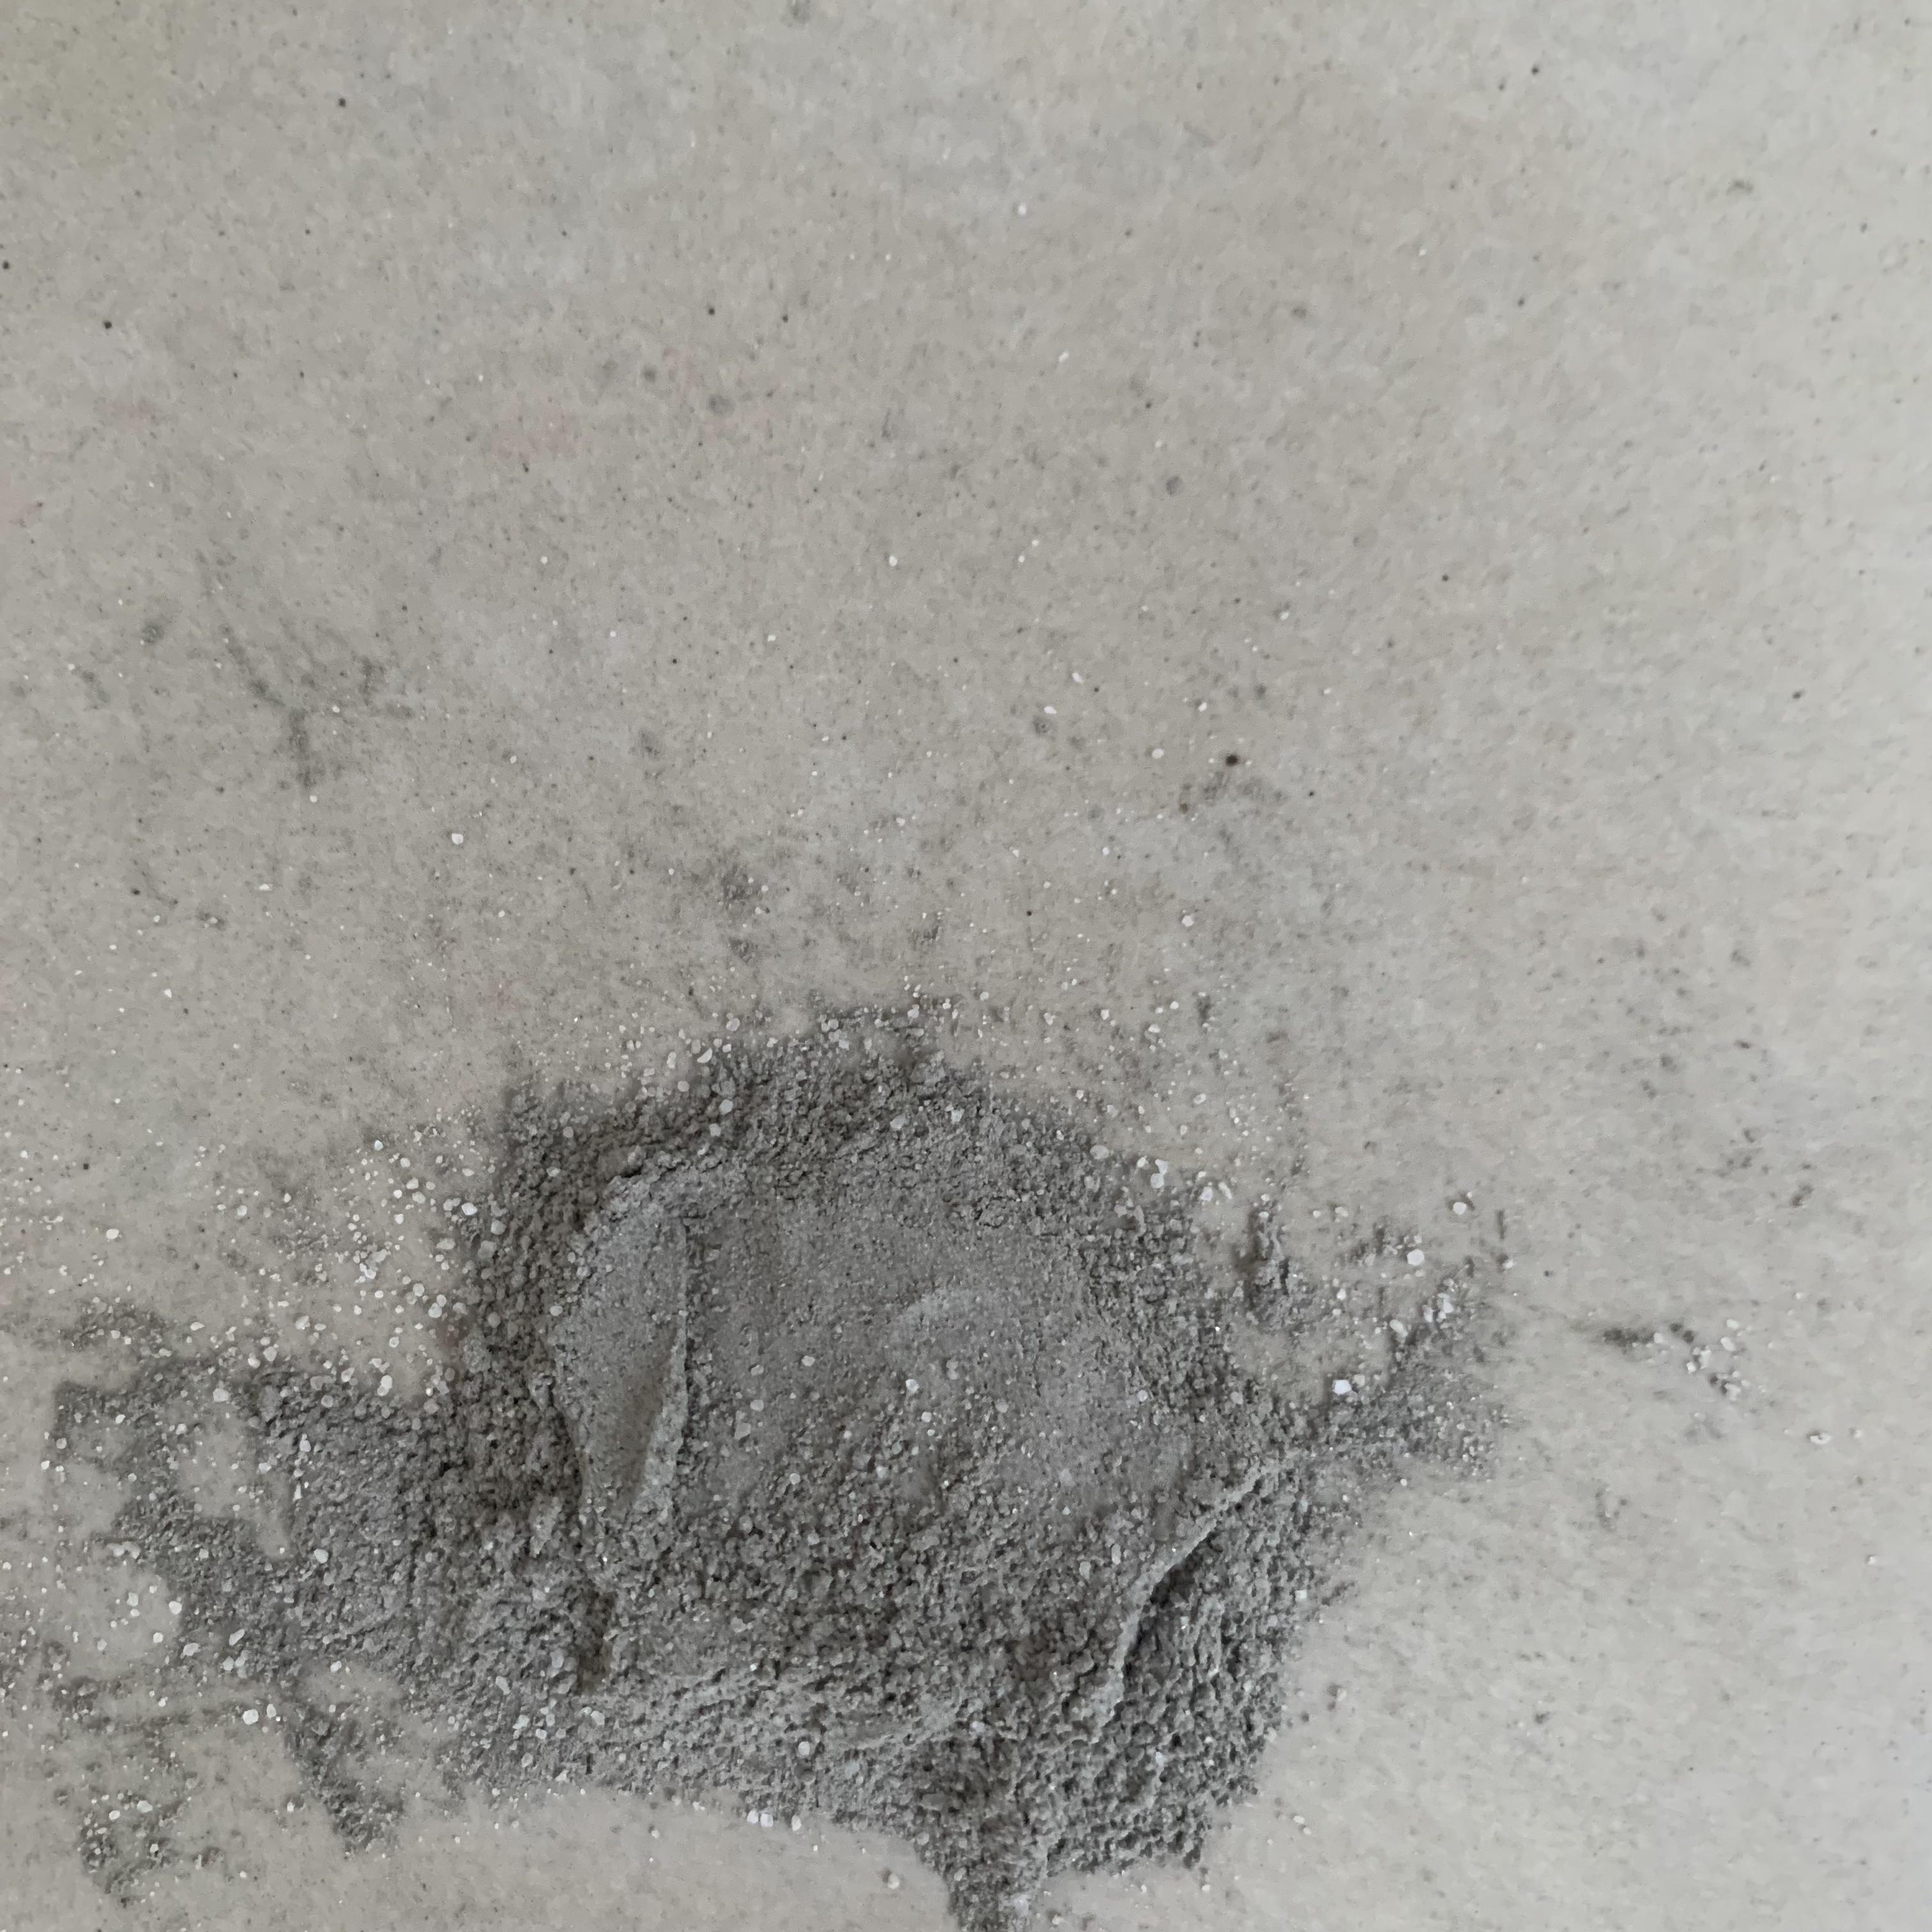ash pile: (0, 817, 1514, 1927)
